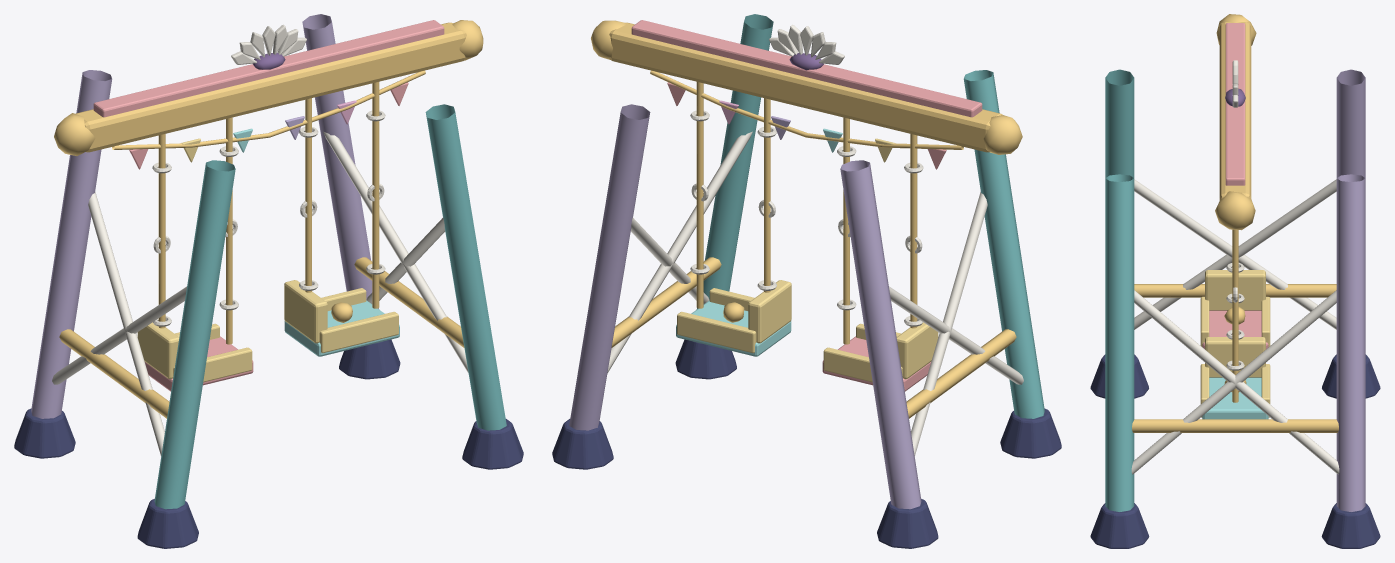
File: lagoon_play_swing.glb
The picture shows the model from 3 angles, left to right: view 1: azimuth 30°, elevation 25°; view 2: azimuth 150°, elevation 25°; view 3: azimuth 270°, elevation 25°; orthographic projection. The views are drawn at different scales.
Parts seen in each view (by area): view 1: lagoon_play_swing.001; view 2: lagoon_play_swing.001; view 3: lagoon_play_swing.001.
Part boxes in pixels (<box>): lagoon_play_swing.001: <box>14,14,523,548</box>; lagoon_play_swing.001: <box>552,14,1061,548</box>; lagoon_play_swing.001: <box>1090,14,1380,548</box>.
Bounding box in the file's own units: 6.96 × 6.66 × 4.39.
